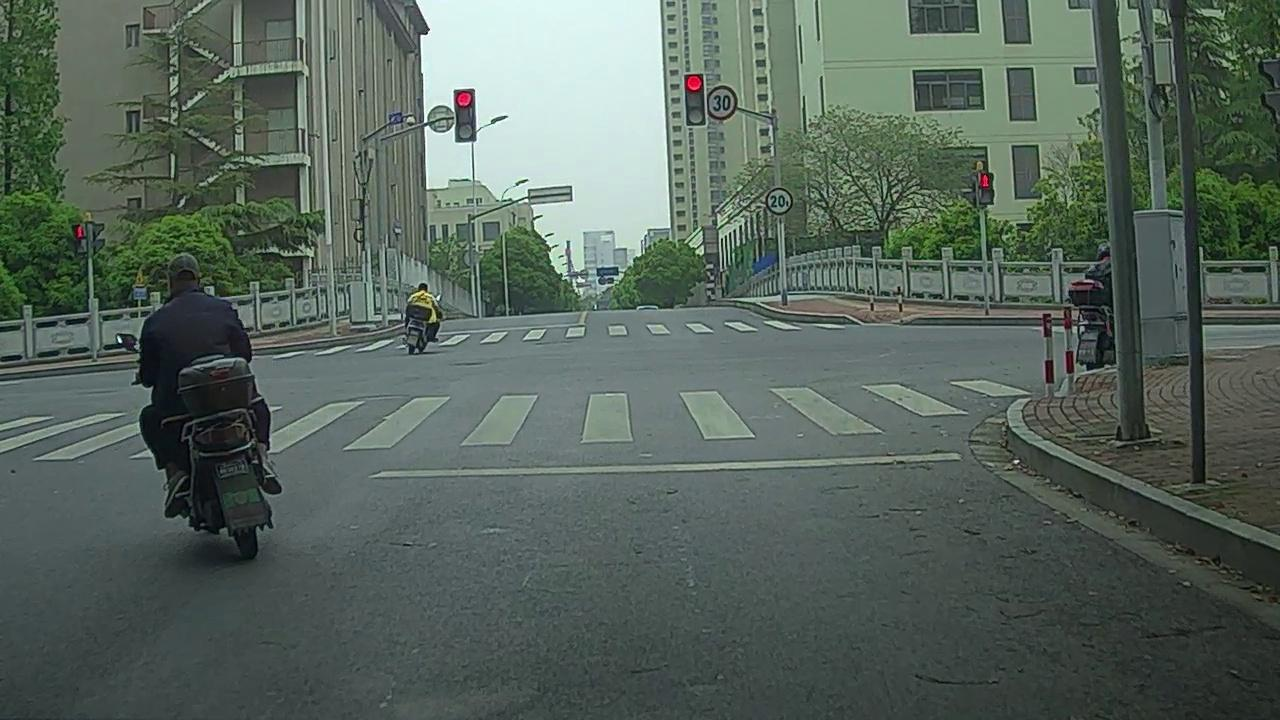traffic_light: (455, 90, 476, 143), (685, 75, 706, 125)
